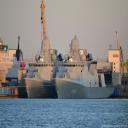Fragata: (54, 34, 116, 100), (23, 31, 55, 100)
